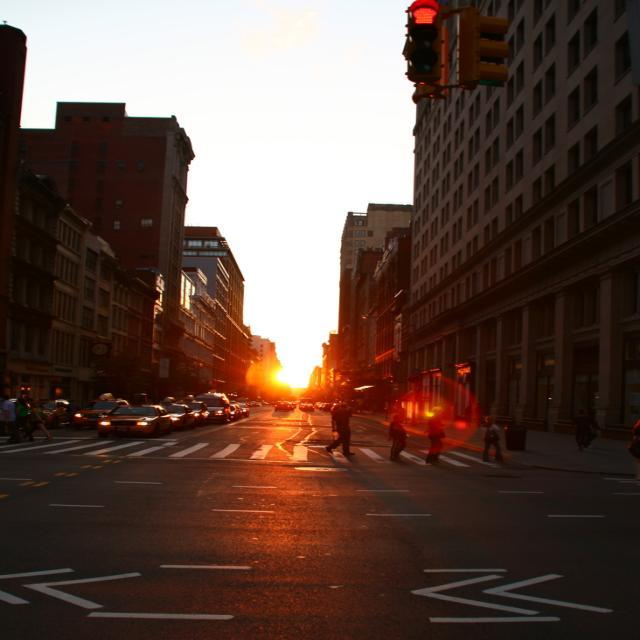off traffic light: (457, 0, 512, 89)
traffic light: (404, 0, 444, 92)
